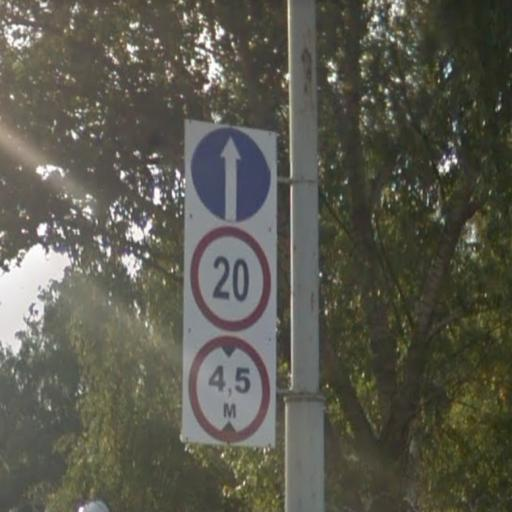traffic_sign: (186, 221, 277, 335)
